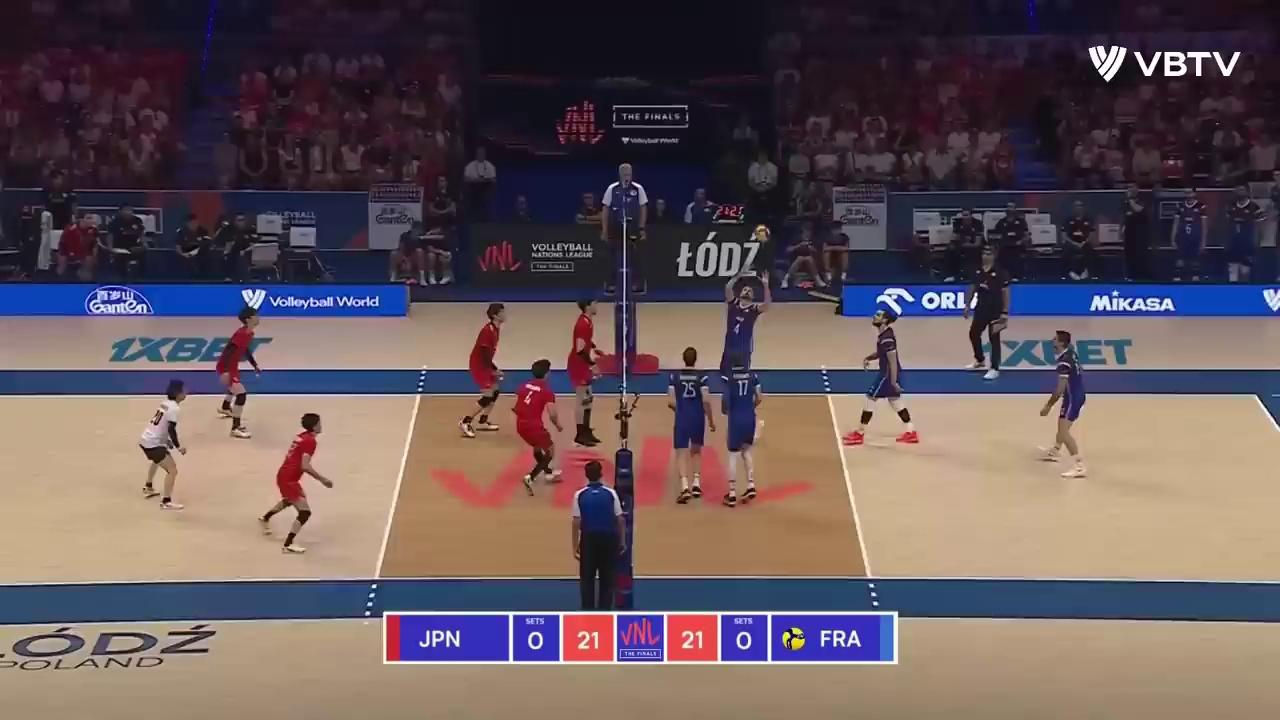ball: (754, 223, 771, 244)
